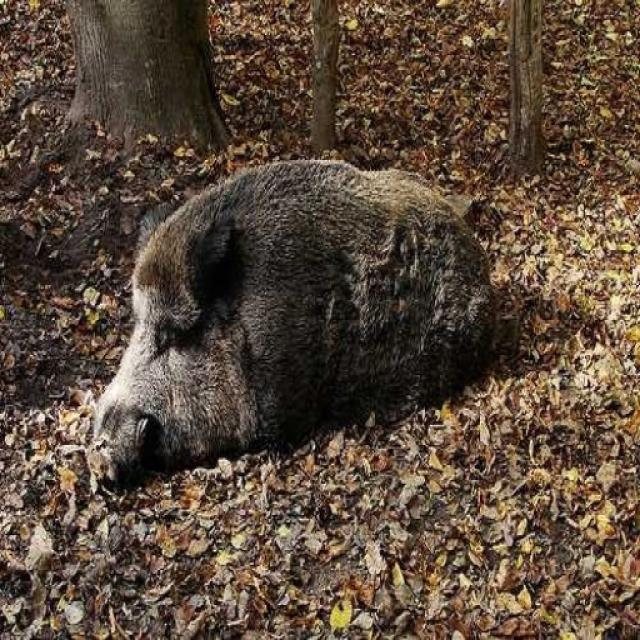pig: (84, 132, 556, 475)
